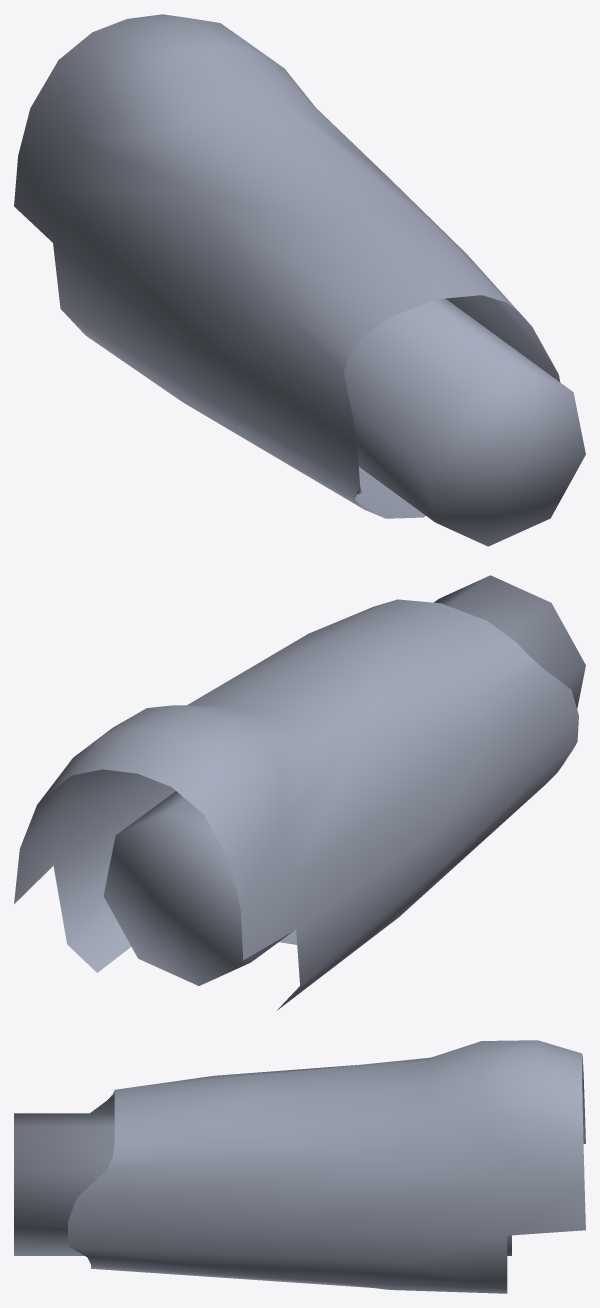
File: l_shank.dae
The picture shows the model from 3 angles, top to bottom: view 1: azimuth 30°, elevation 25°; view 2: azimuth 150°, elevation 25°; view 3: azimuth 270°, elevation 25°; orthographic projection. The views are drawn at different scales.
Parts seen in each view (by area): view 1: l_shank_mesh; view 2: l_shank_mesh; view 3: l_shank_mesh.
Part boxes in pixels (x1=…): l_shank_mesh: x1=14, y1=14, x2=585, y2=546; l_shank_mesh: x1=14, y1=575, x2=585, y2=1010; l_shank_mesh: x1=14, y1=1040, x2=585, y2=1293.
Bounding box in the file's own units: 0.0961 × 0.2446 × 0.1035.
